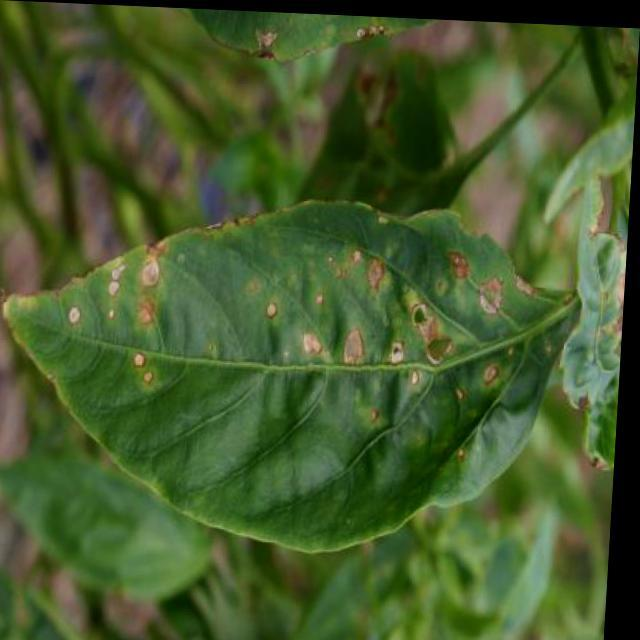Tomato late blight leaf: (0, 179, 582, 556)
